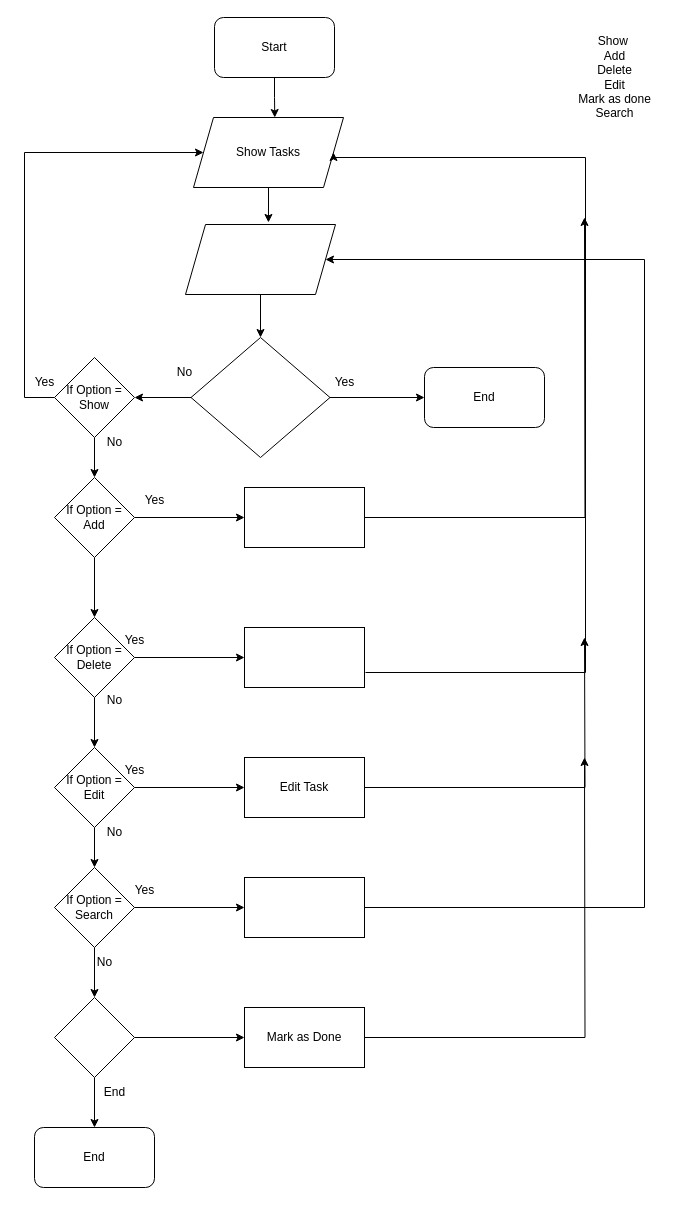
This 682x1205 diagram has some shape labels left out. The shapes that lost their labels are listed below. From the top down, each one's centre as x and y in pixels, then its label:
At point (260, 259): "Choose Option".
At point (260, 397): "If option = exit".
At point (304, 517): "Add Task".
At point (304, 657): "Delete Task".
At point (304, 907): "Search".
At point (94, 1037): "If Option = Mark as Done".
